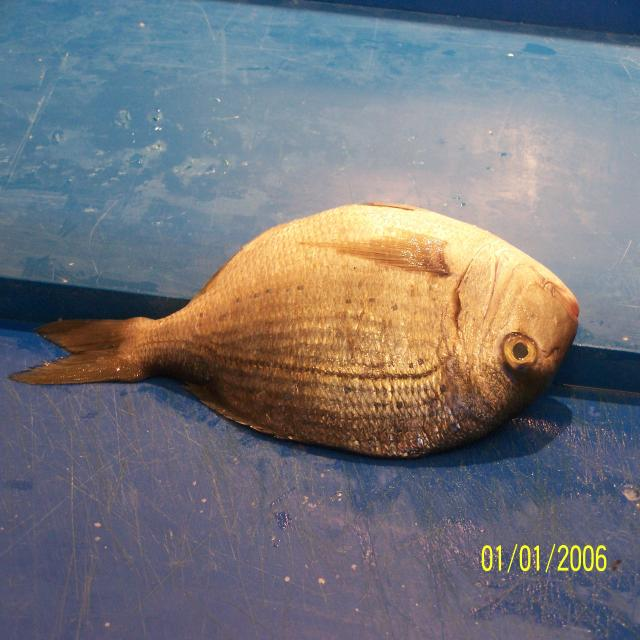Red-Sea-Bream-mercan-: (10, 204, 581, 462)
